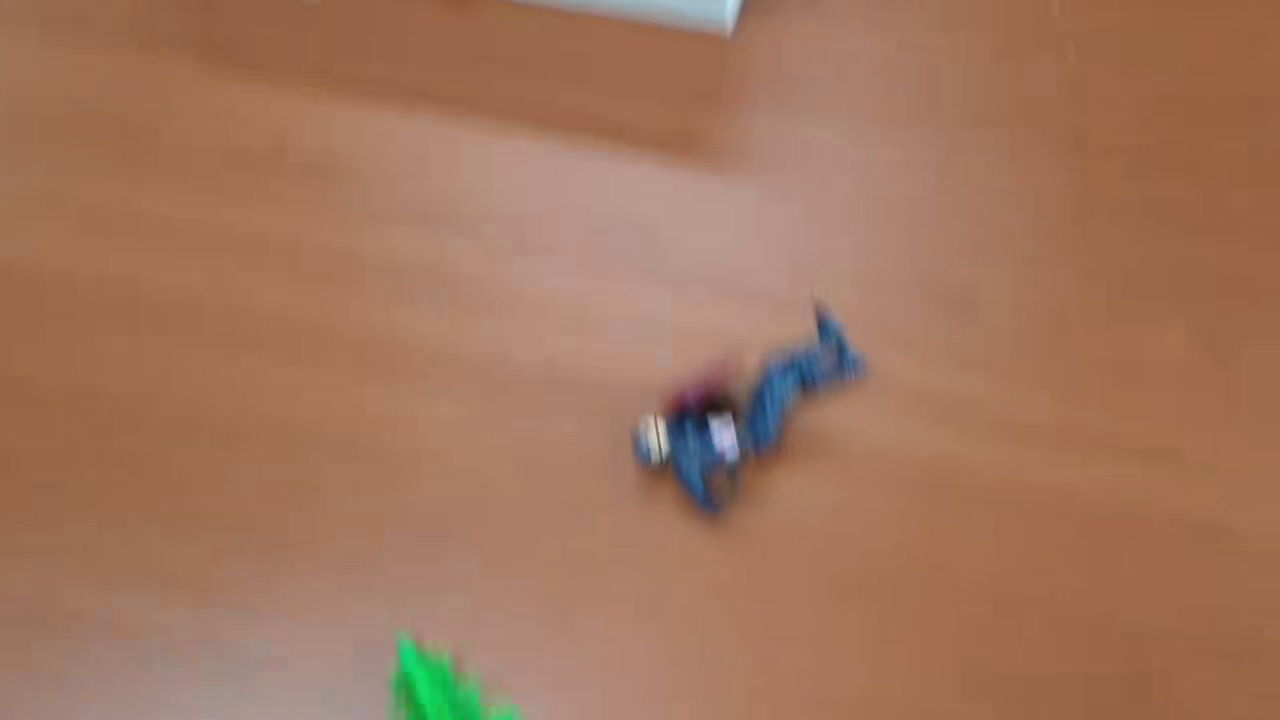people: (634, 302, 866, 513)
tree: (383, 633, 525, 720)
